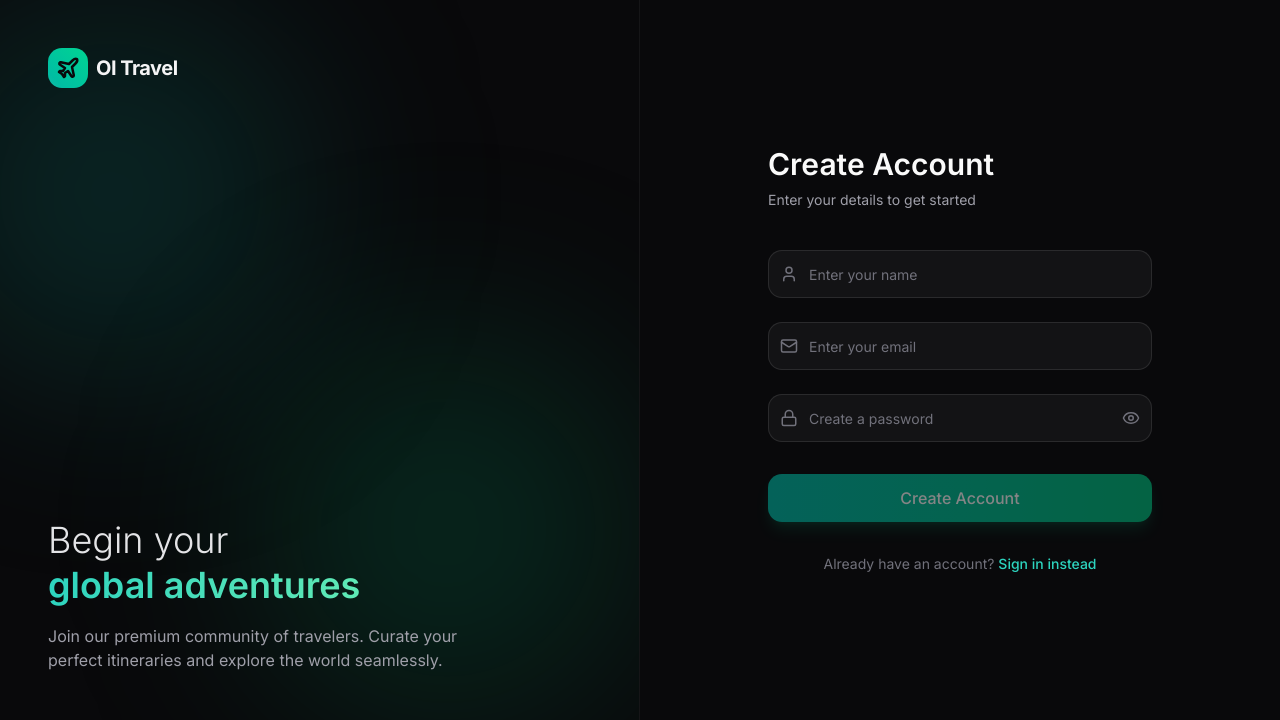
Scenario: SignupPage › shows an error message if input data is invalid (e.g. password too short)
# The user provides a password that is too short
Type "Olivier" into the field with test id "signup-name-input".
click(960, 274); type("Olivier")  # box [768,250,1152,298]
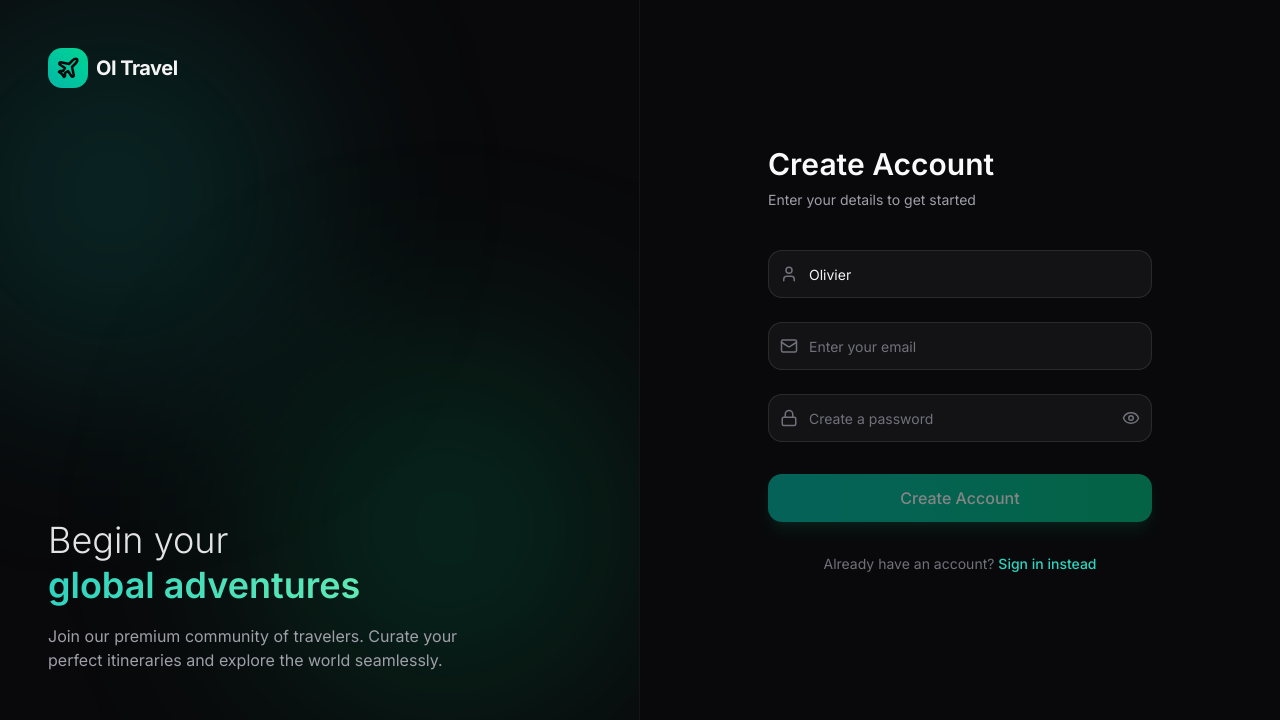
Type "oliechti@gmx.ch" into the field with test id "signup-email-input".
click(960, 346); type("oliechti@gmx.ch")  # box [768,322,1152,370]
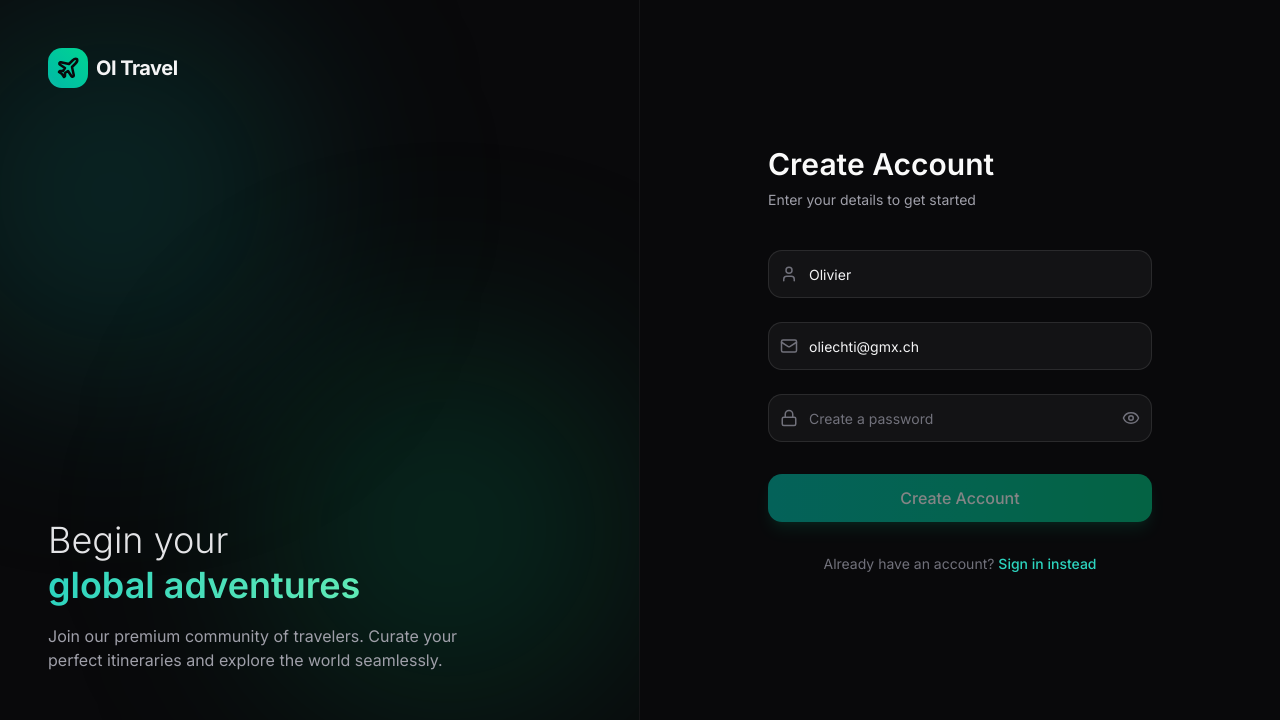
Type "1234" into the password field with test id "signup-password-input".
click(960, 418); type("1234")  # box [768,394,1152,442]
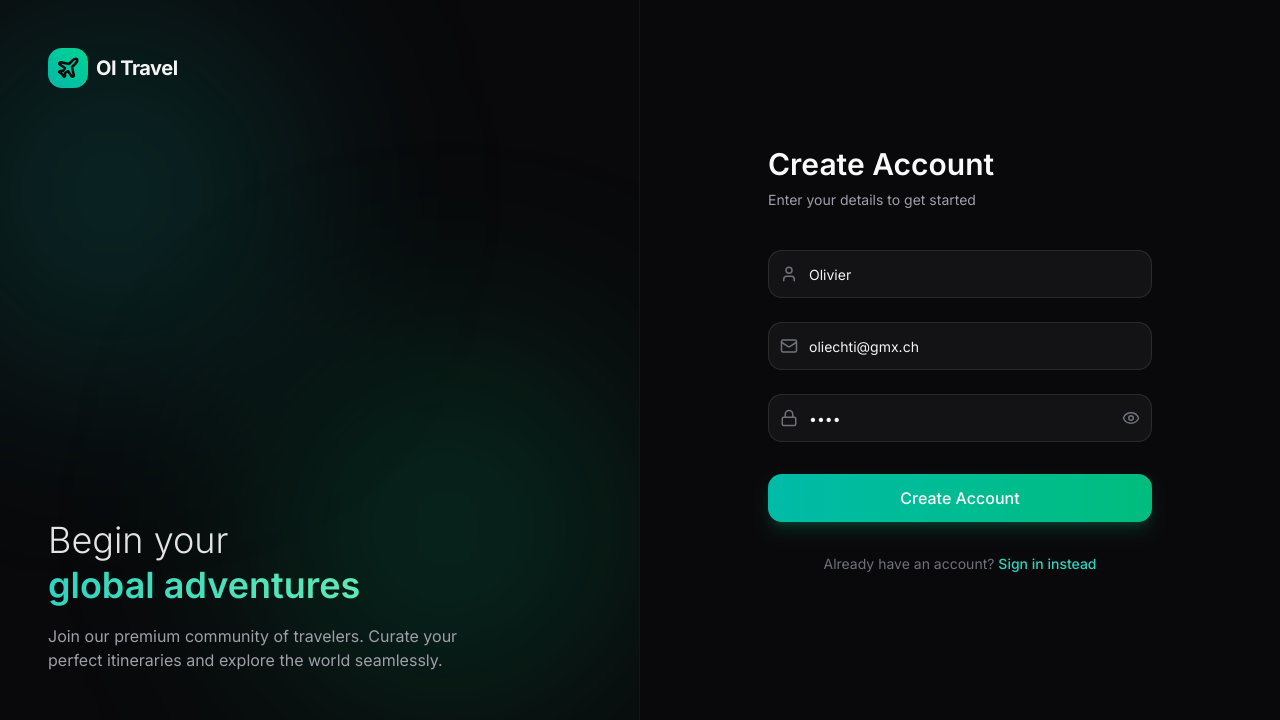
Click the button with test id "signup-submit-button".
click(960, 498)  # box [768,474,1152,522]
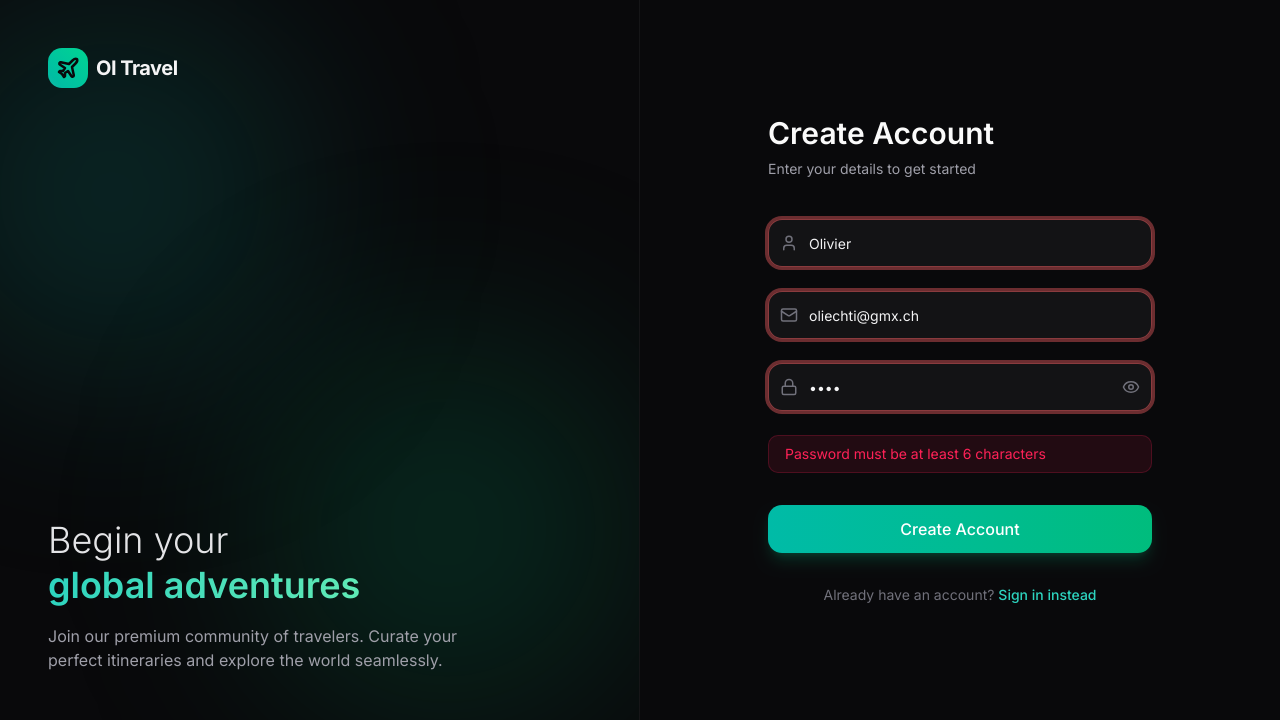
Expected: the text "Password must be at least 6 characters" is shown, [768,435,1152,473]
